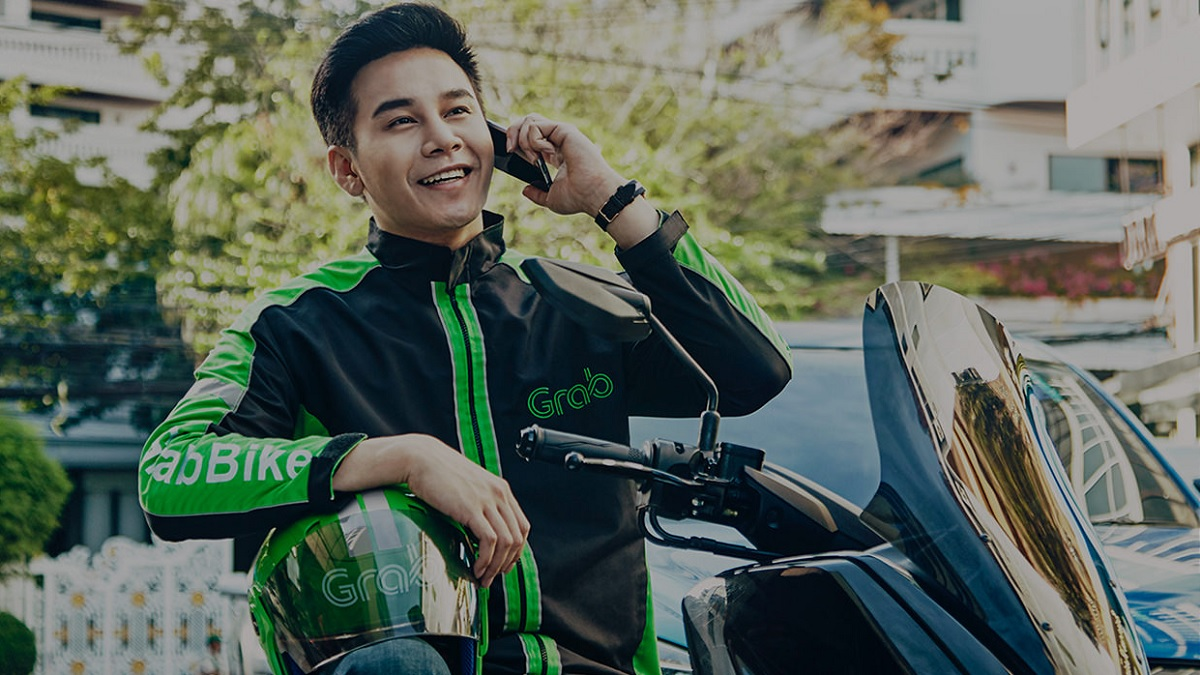su dung dien thoai: (320, 10, 629, 264)
